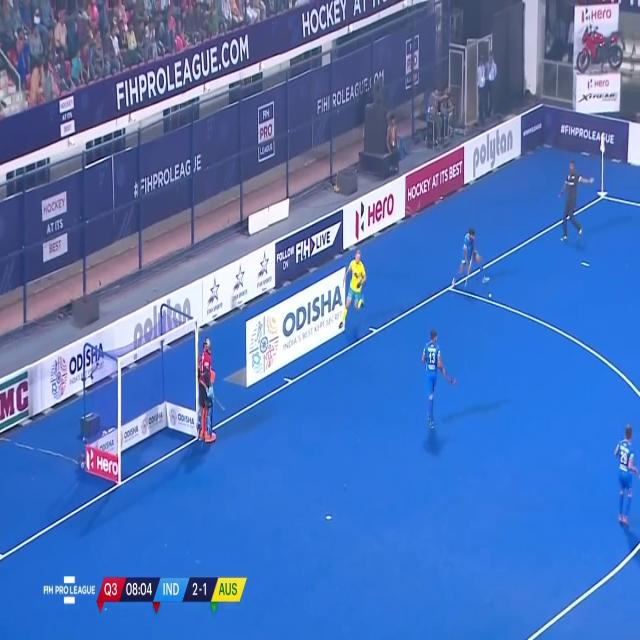ball: (488, 292, 492, 300)
